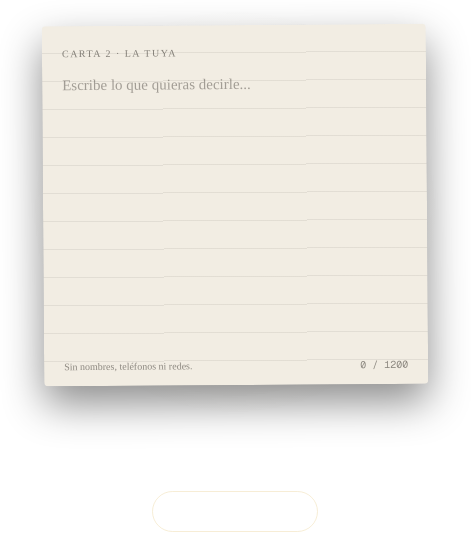
Test: WriteLetterStep, the paper › counts up to the 1200 characters the server accepts
Type "Hola." into the text box named "Tu carta". click: (235, 210)
box: [62,69,408,351]
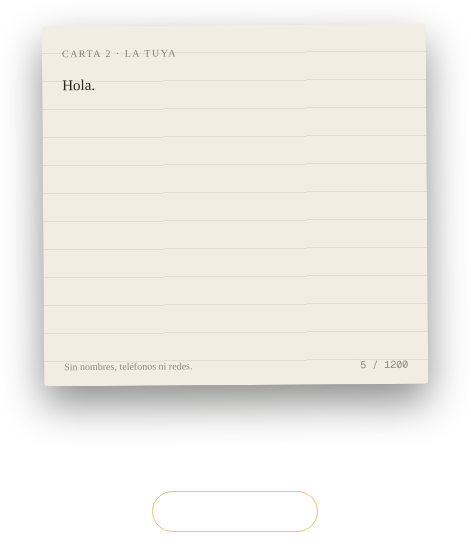
expect the text "5 / 1200" is shown: met, box [360,357,408,372]
